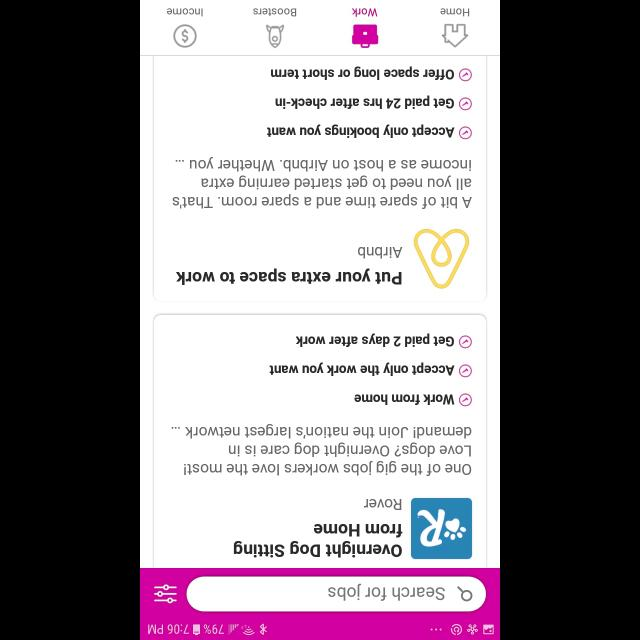icon: (440, 24, 468, 48), (352, 24, 378, 48), (173, 24, 197, 48), (154, 584, 176, 604), (266, 24, 284, 48), (456, 586, 472, 600), (460, 394, 472, 406), (460, 365, 472, 377), (460, 336, 472, 348), (460, 127, 472, 139), (460, 98, 472, 110), (460, 69, 472, 81)
image: (411, 498, 472, 558), (413, 230, 469, 288)
input: (186, 576, 486, 612)
text: (171, 424, 471, 476), (173, 157, 472, 209), (234, 523, 402, 557), (176, 268, 402, 284), (266, 124, 454, 138), (270, 362, 454, 376), (271, 67, 454, 81), (275, 95, 453, 108), (296, 333, 454, 347), (328, 583, 444, 601), (354, 394, 454, 406), (358, 247, 402, 259), (364, 498, 401, 509), (254, 8, 296, 16), (166, 8, 202, 16), (351, 8, 377, 18), (439, 8, 468, 16)
uppertaskbar: (140, 622, 500, 640)
